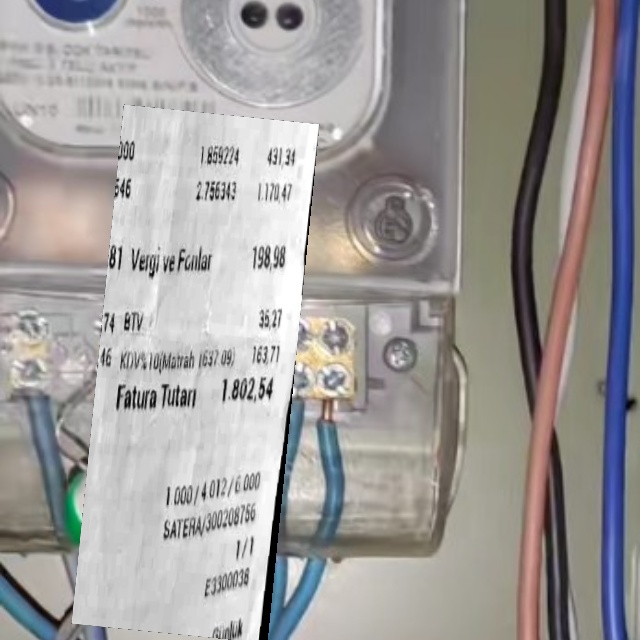electricity-bill: (71, 104, 320, 640)
